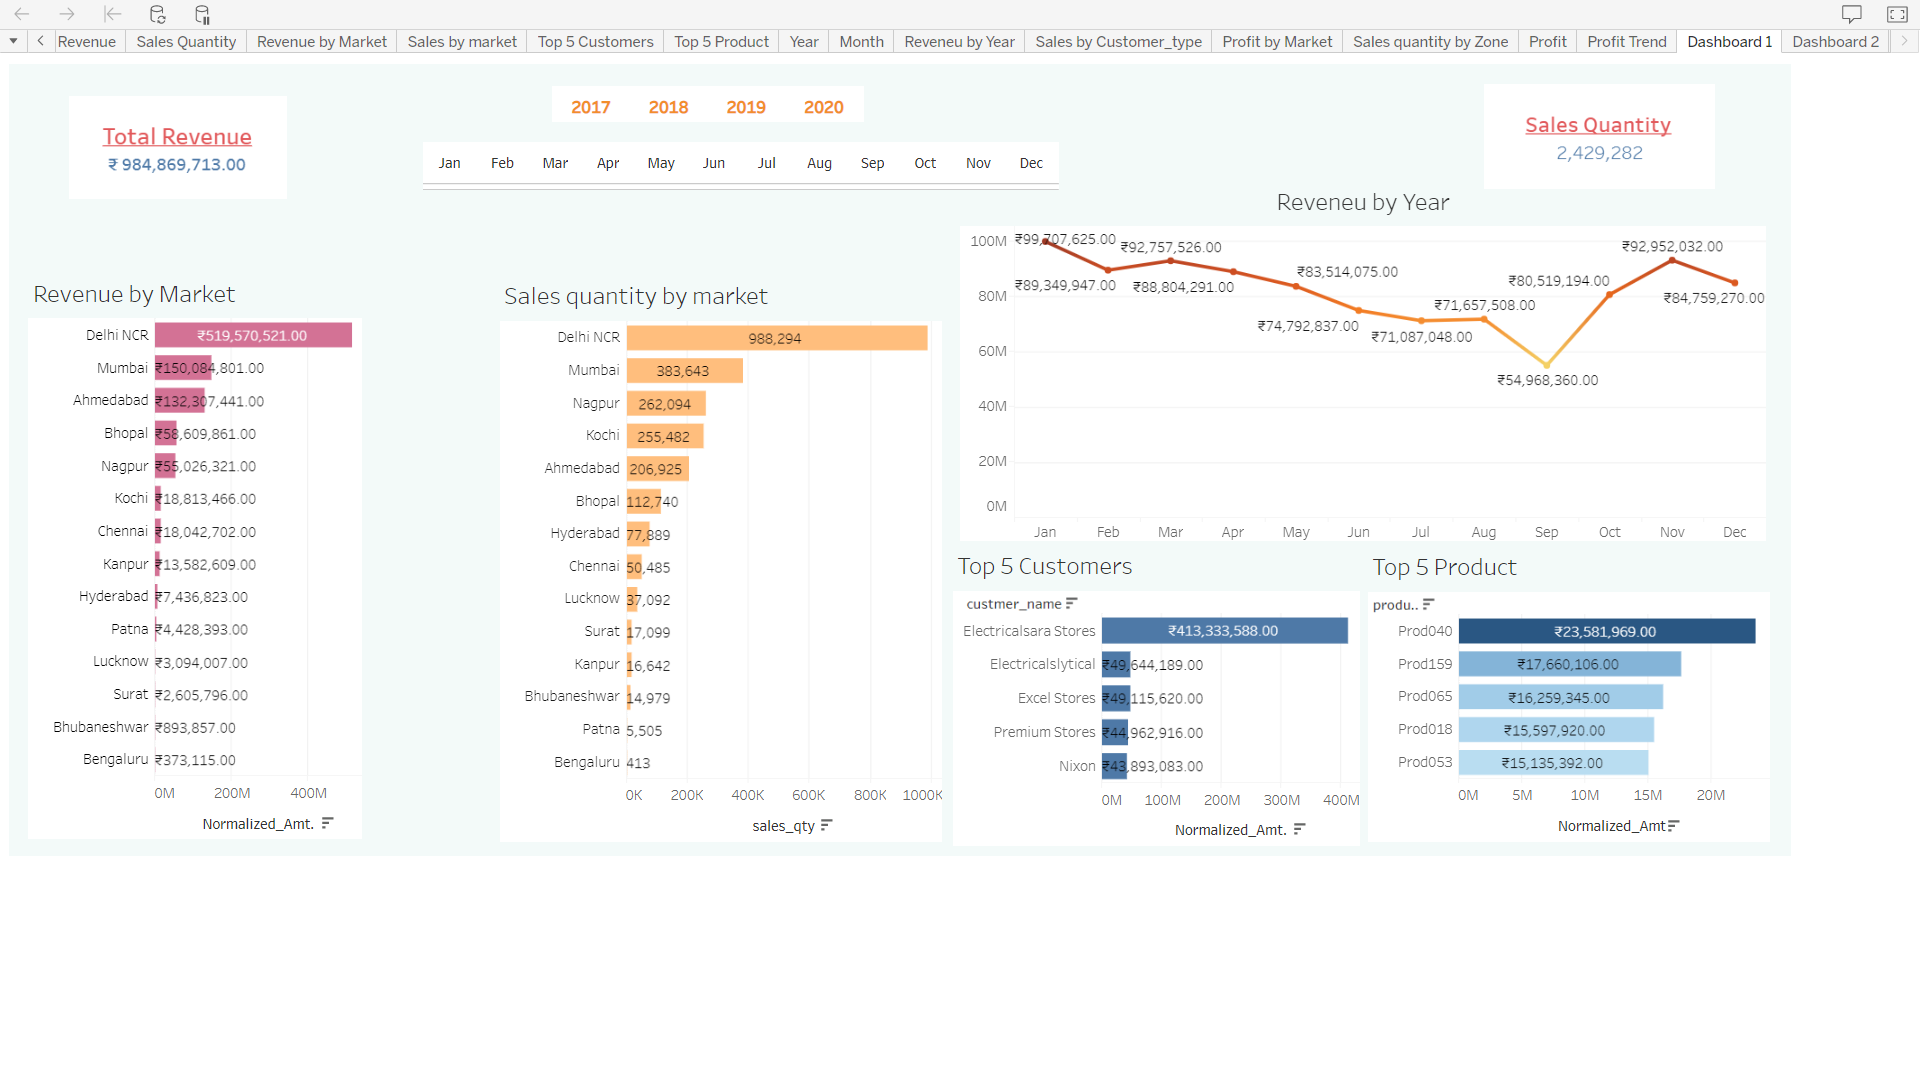

What the dashboard file says about the page in this screenshot:
{"tool":"tableau","page":{"name":"Dashboard 1","canvas":[1600,720],"ordinal":0},"visuals":[{"type":"worksheet","title":"Sales Quantity","mark":"Automatic","box":[1319.3,11.2,205,107.5]},{"type":"worksheet","title":"Year","mark":"Automatic","cols":["cy_date"],"box":[490.7,12.3,299.6,46.5]},{"type":"worksheet","title":"Revenue","mark":"Automatic","box":[61,21,261,108]},{"type":"worksheet","title":"Month","mark":"Automatic","cols":["cy_date"],"box":[376,61.6,568,62.4]},{"type":"worksheet","title":"Reveneu by Year","mark":"Automatic","rows":["Calculation_803329591773749248"],"cols":["cy_date"],"box":[853.3,108.9,716.6,323.1]},{"type":"worksheet","title":"Revenue by Market","mark":"Automatic","rows":["markets_name"],"cols":["Calculation_803329591773749248"],"box":[25,191,402,522]},{"type":"worksheet","title":"Sales by market","mark":"Automatic","rows":["markets_name"],"cols":["sales_qty"],"box":[444,193,393,519]},{"type":"worksheet","title":"Top 5 Customers","mark":"Automatic","rows":["custmer_name"],"cols":["Calculation_803329591773749248"],"box":[847,433,362,284]},{"type":"worksheet","title":"Top 5 Product","mark":"Automatic","rows":["product_code (products)"],"cols":["Calculation_803329591773749248"],"box":[1216,434,357,279]}]}

Visuals, with their boxes on the page's 1600x720 design canvas (x1, y1, x2, y2). These are canvas units, not pixel positions in the 1920x1080 screenshot, which may show the page scaled, cropped or inside an application window:
"Sales Quantity" worksheet: bbox(1319, 11, 1524, 119)
"Year" worksheet: bbox(491, 12, 790, 59)
"Revenue" worksheet: bbox(61, 21, 322, 129)
"Month" worksheet: bbox(376, 62, 944, 124)
"Reveneu by Year" worksheet: bbox(853, 109, 1570, 432)
"Revenue by Market" worksheet: bbox(25, 191, 427, 713)
"Sales by market" worksheet: bbox(444, 193, 837, 712)
"Top 5 Customers" worksheet: bbox(847, 433, 1209, 717)
"Top 5 Product" worksheet: bbox(1216, 434, 1573, 713)
